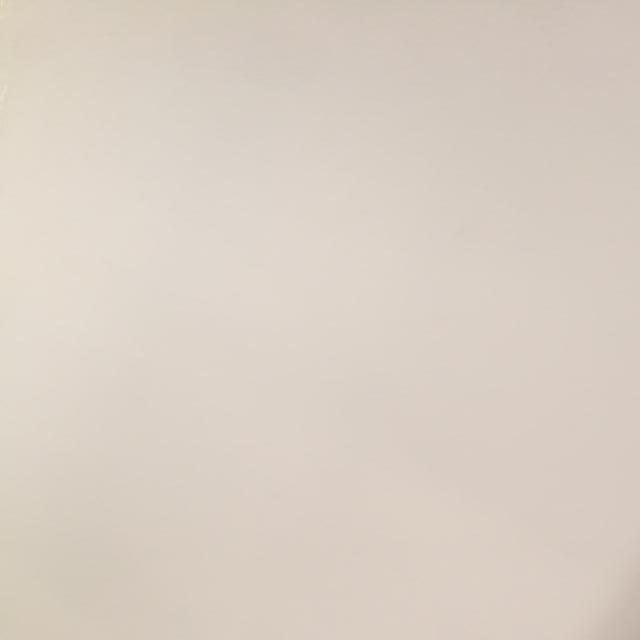fluorescent tube: (375, 188, 640, 640)
